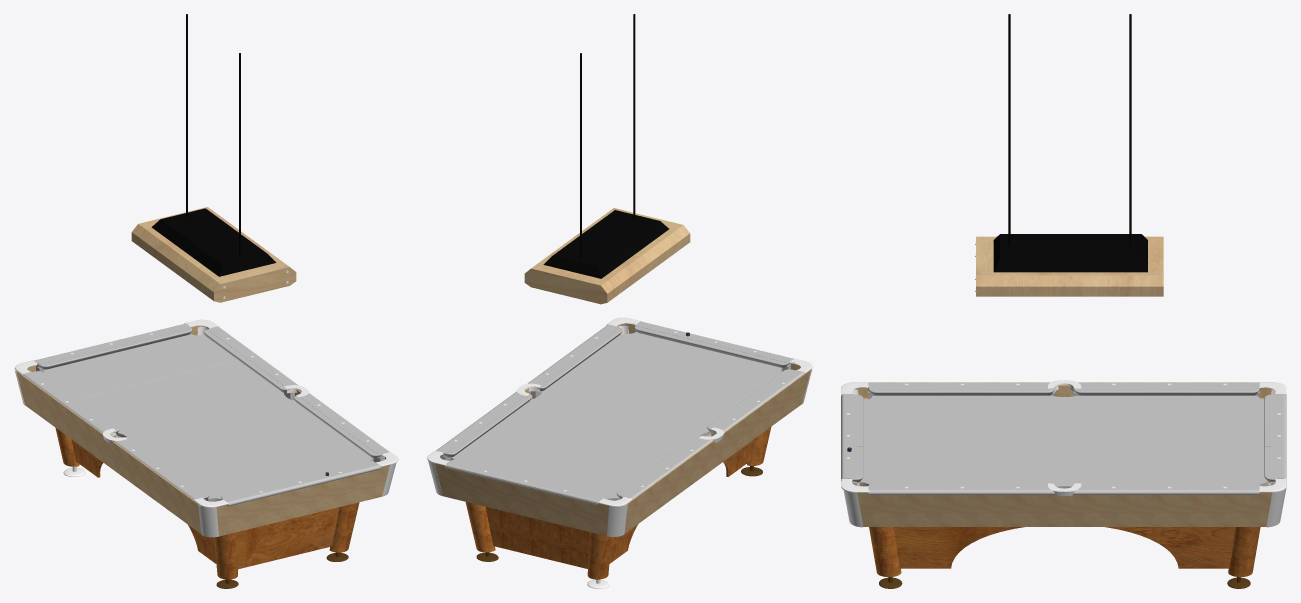
The picture shows the model from 3 angles, left to right: view 1: azimuth 30°, elevation 25°; view 2: azimuth 150°, elevation 25°; view 3: azimuth 270°, elevation 25°; orthographic projection. The views are drawn at different scales.
Parts seen in each view (by area): view 1: Table01, Rectangle07, Rectangle101, Box33, Rectangle10, Circle04, Rectangle08, Rectangle12, Object17; view 2: Table01, Rectangle07, Rectangle101, Box33, Rectangle11, Circle04, Rectangle08, Rectangle12, Object17, Cylinder27; view 3: Table01, Rectangle07, Rectangle09, Box33, Rectangle101, Circle04, Rectangle12, Object17, Cylinder26, Cylinder27.
Boxes of the visible parts, x1=… form: Table01: x1=23, y1=323, x2=389, y2=506; Rectangle07: x1=14, y1=325, x2=389, y2=536; Rectangle101: x1=131, y1=207, x2=296, y2=302; Box33: x1=151, y1=208, x2=276, y2=276; Rectangle10: x1=236, y1=507, x2=339, y2=569; Circle04: x1=55, y1=428, x2=359, y2=579; Rectangle08: x1=71, y1=440, x2=216, y2=563; Rectangle12: x1=14, y1=326, x2=396, y2=537; Object17: x1=15, y1=319, x2=398, y2=466; Table01: x1=436, y1=321, x2=804, y2=505; Rectangle07: x1=435, y1=322, x2=810, y2=536; Rectangle101: x1=524, y1=208, x2=690, y2=304; Box33: x1=543, y1=210, x2=668, y2=278; Rectangle11: x1=485, y1=507, x2=589, y2=568; Circle04: x1=465, y1=427, x2=771, y2=579; Rectangle08: x1=609, y1=439, x2=754, y2=563; Rectangle12: x1=428, y1=325, x2=812, y2=536; Object17: x1=427, y1=317, x2=640, y2=506; Cylinder27: x1=633, y1=14, x2=635, y2=219; Table01: x1=841, y1=382, x2=1286, y2=494; Rectangle07: x1=854, y1=382, x2=1286, y2=526; Rectangle09: x1=893, y1=527, x2=1235, y2=568; Box33: x1=993, y1=234, x2=1147, y2=272; Rectangle101: x1=976, y1=236, x2=1163, y2=296; Circle04: x1=869, y1=527, x2=1260, y2=577; Rectangle12: x1=843, y1=389, x2=1286, y2=527; Object17: x1=841, y1=382, x2=1286, y2=492; Cylinder26: x1=1129, y1=14, x2=1131, y2=246; Cylinder27: x1=1008, y1=14, x2=1010, y2=246.
Bounding box in the file's own units: 1.79 × 4.06 × 3.02.
